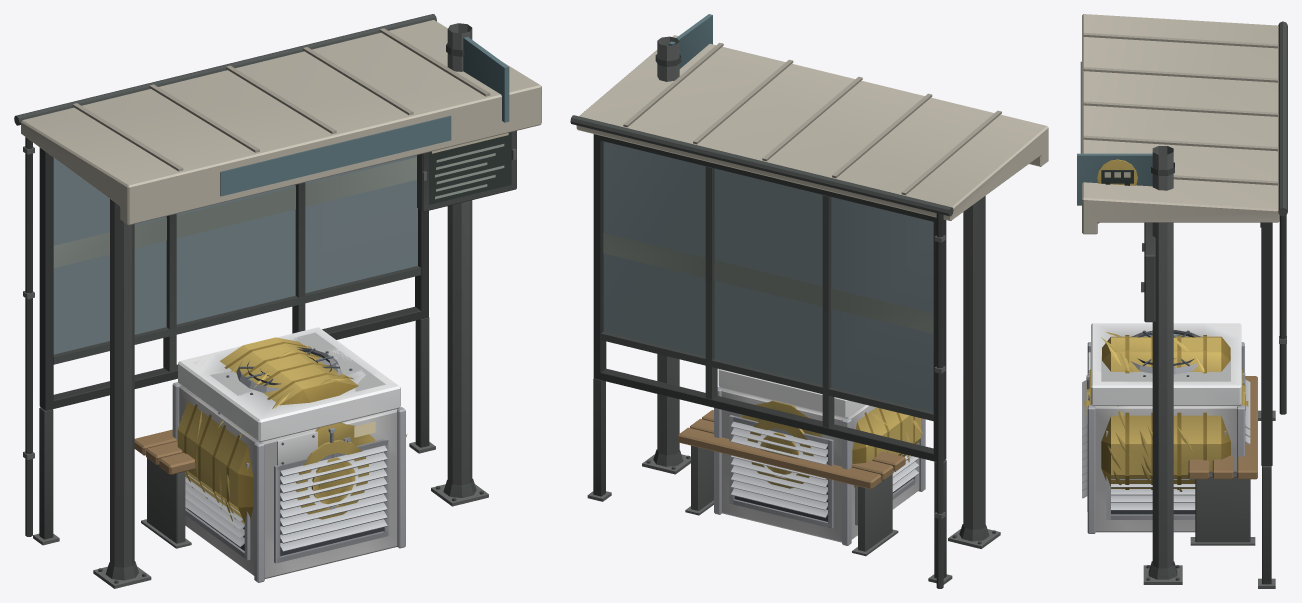
The model's file is street2-near.glb.
3 renders of one model, left to right at view 1: azimuth 30°, elevation 25°; view 2: azimuth 150°, elevation 25°; view 3: azimuth 270°, elevation 25°, orthographic. The views are drawn at different scales.
Parts seen in each view (by area): view 1: BusStopNear, BlockNear, BaleNear; view 2: BusStopNear, BlockNear, BaleNear; view 3: BusStopNear, BlockNear, BaleNear.
Boxes of the visible parts, x1=… form: BusStopNear: x1=14, y1=14, x2=541, y2=588; BlockNear: x1=172, y1=327, x2=405, y2=582; BaleNear: x1=177, y1=337, x2=406, y2=526; BusStopNear: x1=570, y1=14, x2=1048, y2=588; BlockNear: x1=714, y1=369, x2=925, y2=545; BaleNear: x1=741, y1=400, x2=923, y2=488; BusStopNear: x1=1077, y1=14, x2=1287, y2=588; BlockNear: x1=1082, y1=323, x2=1250, y2=533; BaleNear: x1=1084, y1=331, x2=1248, y2=491.
Size of the model in its own units: 2.77 by 2.94 by 1.3.
